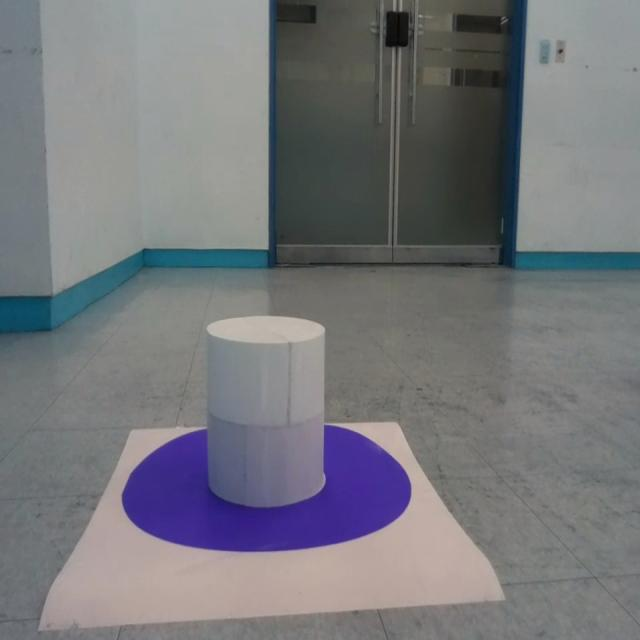cylinder: (206, 315, 327, 507)
